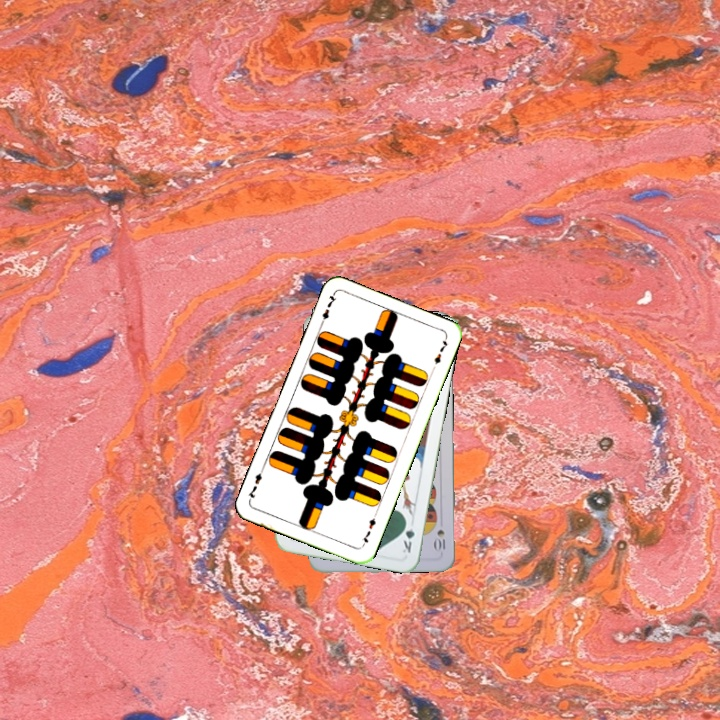E7: (316, 290, 339, 329), (357, 510, 379, 549)
GK: (398, 516, 417, 555)
S10: (432, 525, 448, 553)
